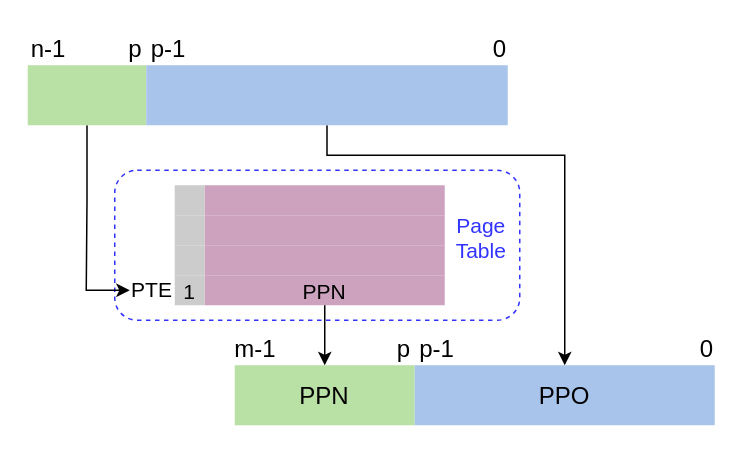
This 755x450 diagram has some shape labels left out. Each missing label, with the box of its shape:
VPN: (27, 64, 146, 124)
VPO: (146, 64, 507, 124)
